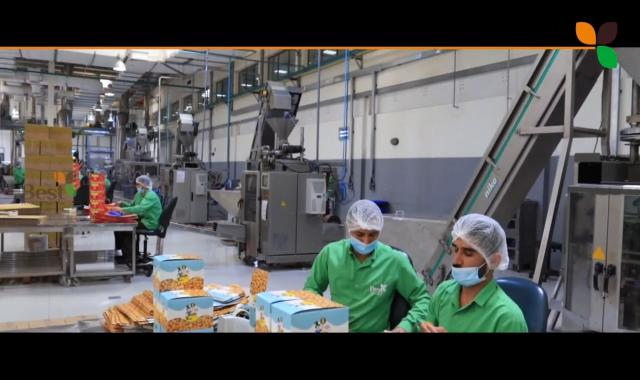hairnet: (450, 205, 510, 286), (344, 197, 384, 247), (134, 174, 152, 196)
